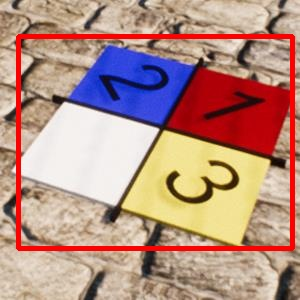nfpa: (18, 36, 292, 248)
